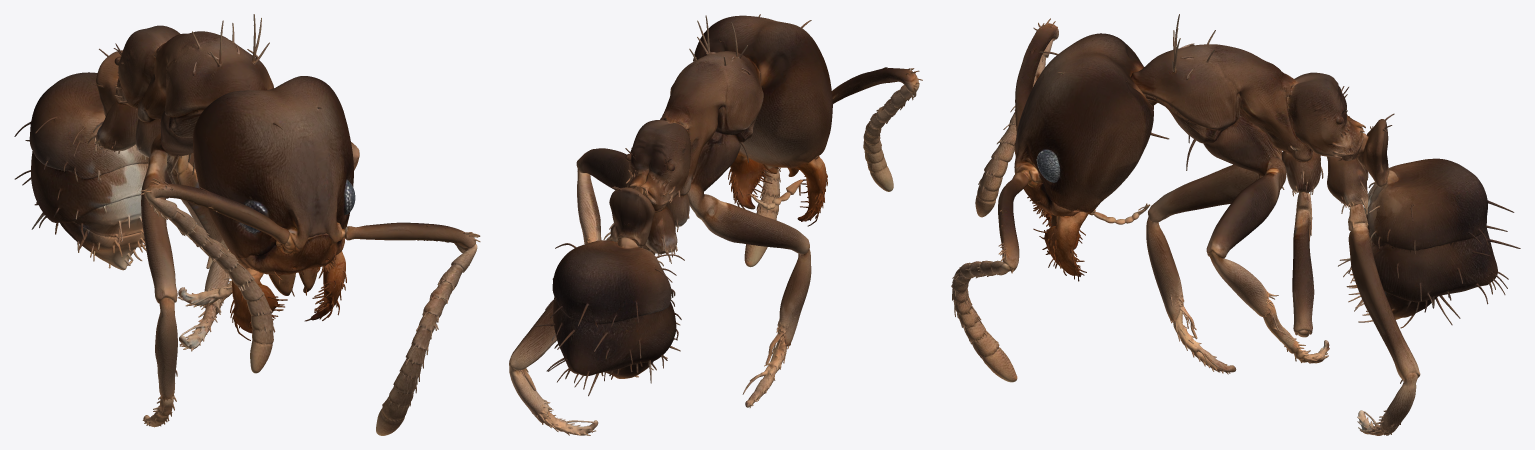
Rendered from esp3.glb.
3 views of the same model, side by side, from view 1: azimuth 30°, elevation 25°; view 2: azimuth 150°, elevation 25°; view 3: azimuth 270°, elevation 25° (orthographic). The views are drawn at different scales.
Bounding box in the file's own units: 1.11 × 1.43 × 1.9.
1 material, 1 textured.
